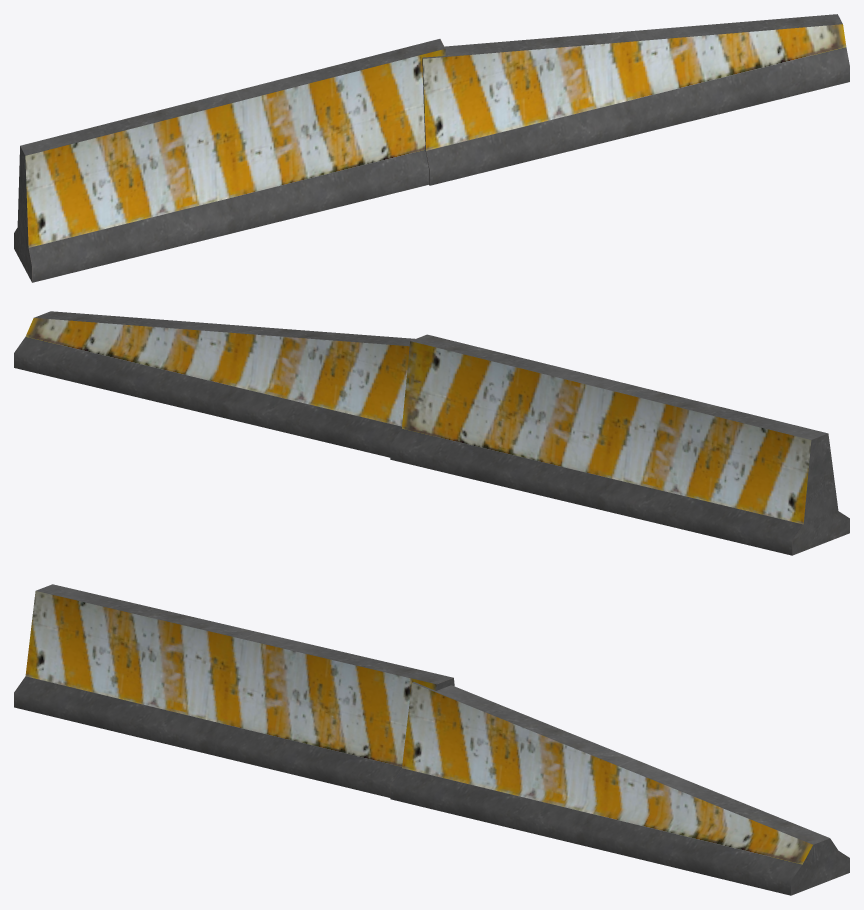
Rendered from road devider.FBX.
3 views of the same model, one above another, from view 1: azimuth 30°, elevation 25°; view 2: azimuth 150°, elevation 25°; view 3: azimuth 330°, elevation 25° (orthographic). The views are drawn at different scales.
Parts seen in each view (by area): view 1: Object365, Object366; view 2: Object365, Object366; view 3: Object365, Object366.
Boxes of the visible parts, x1,y1,x2,y2 form: Object365: (14, 39, 445, 282); Object366: (422, 14, 849, 185); Object365: (390, 334, 849, 555); Object366: (14, 311, 414, 457); Object365: (14, 584, 454, 797); Object366: (390, 682, 849, 895).
Size of the model in its own units: 65.2 by 8.67 by 5.61.
1 material, 1 textured.
